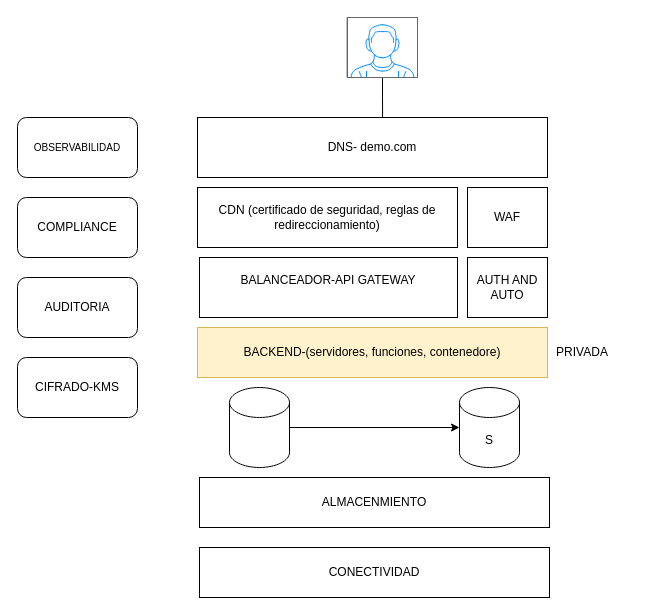
Some shapes in this 645 by 615 pixel diagram are drawn without their labels. Each missing label, with the centre of its shape:
"DB-M" goes at [259,427].
"users" goes at [382,47].
